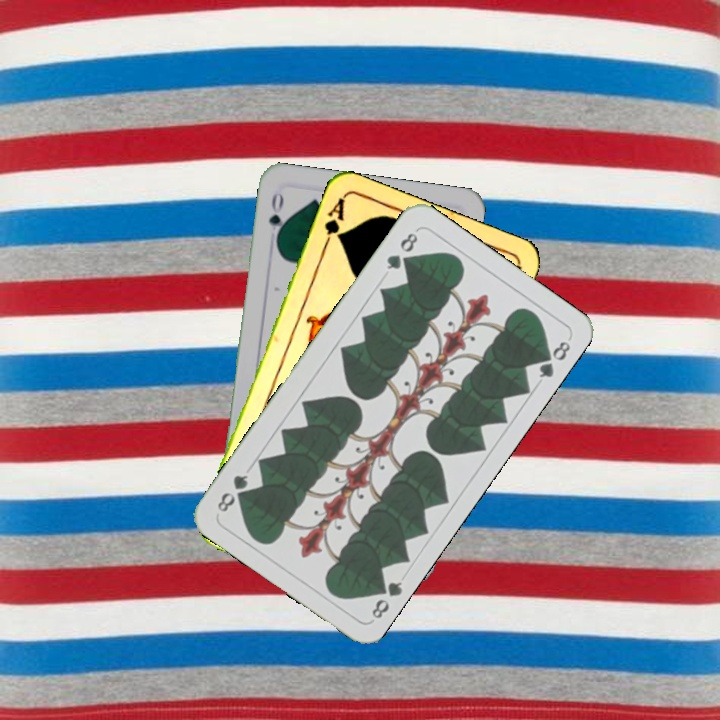G8: (382, 226, 421, 272), (367, 575, 405, 622)
GA: (319, 194, 348, 252)
GO: (264, 188, 288, 247)
